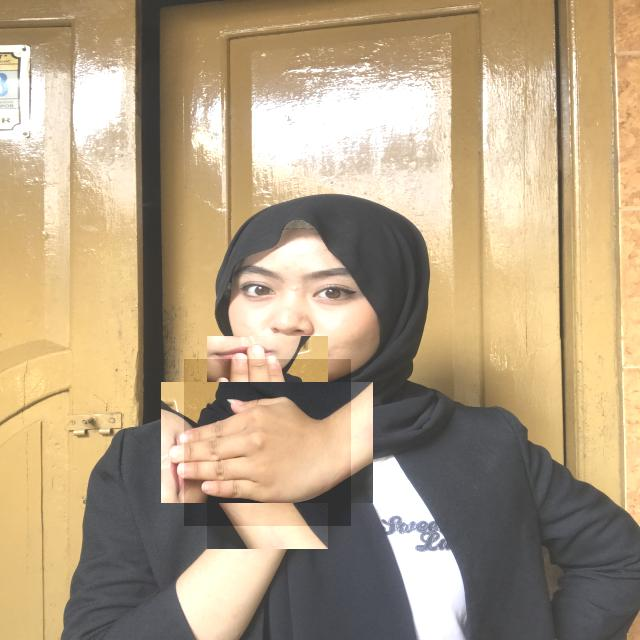ganteng: (184, 359, 351, 526)
